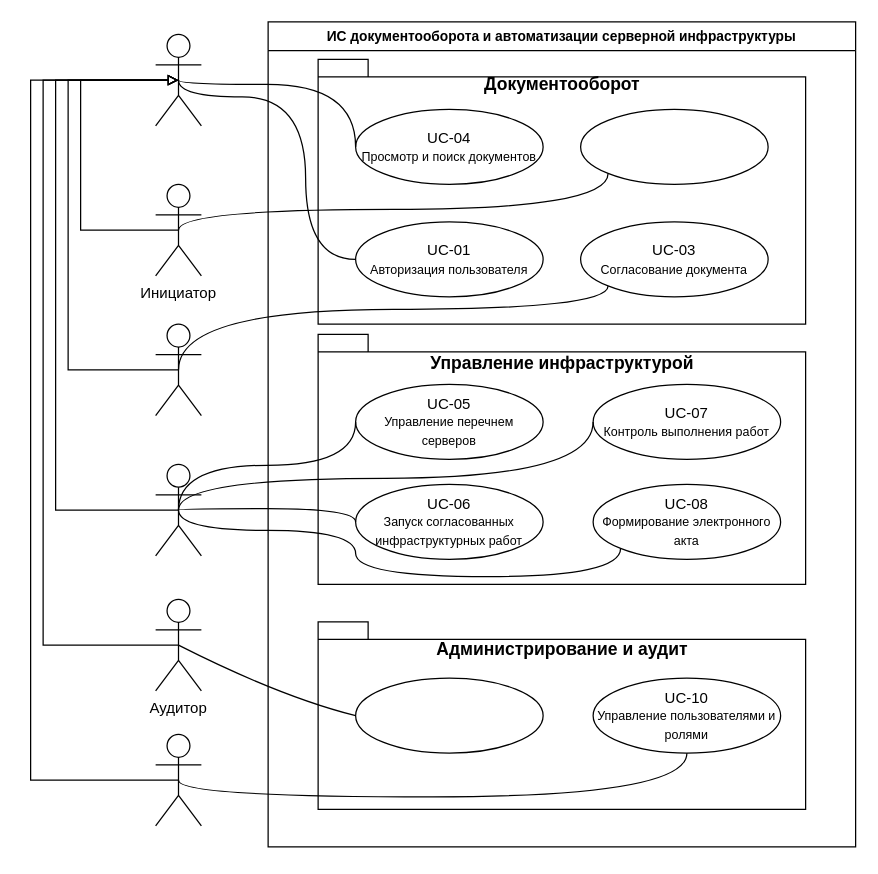
The diagram is 878 pixels wide and 874 high, and some of its shapes have lost their labels. Each missing label, with the centre of its shape:
"UC-02 Создание документа на изменение инфраструктуры" goes at [673,146].
"UC-09 Просмотр журнала аудита" goes at [448,715].
"Администратор системы" goes at [177,779].
"Пользователь" goes at [177,79].
"Системный администратор" goes at [177,509].
"Согласующий" goes at [177,369].
